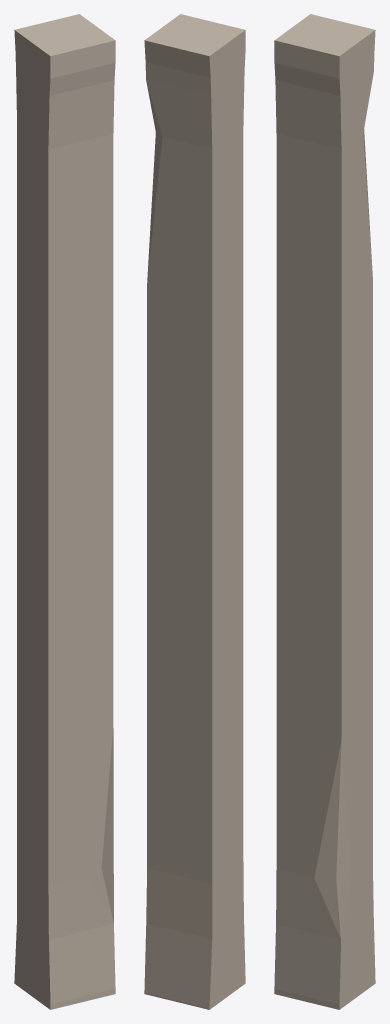
The model's file is Column_Uneven.fbx.
3 views of the same model, side by side, from view 1: azimuth 30°, elevation 25°; view 2: azimuth 150°, elevation 25°; view 3: azimuth 330°, elevation 25° (orthographic).
Visible parts, largest first — view 1: Cube; view 2: Cube; view 3: Cube.
Part boxes in pixels (box(x1,y1,x2,y2)): Cube: box(14, 14, 115, 1009); Cube: box(144, 14, 245, 1009); Cube: box(274, 14, 375, 1009).
Bounding box in the file's own units: 14.47 × 203 × 13.89.
